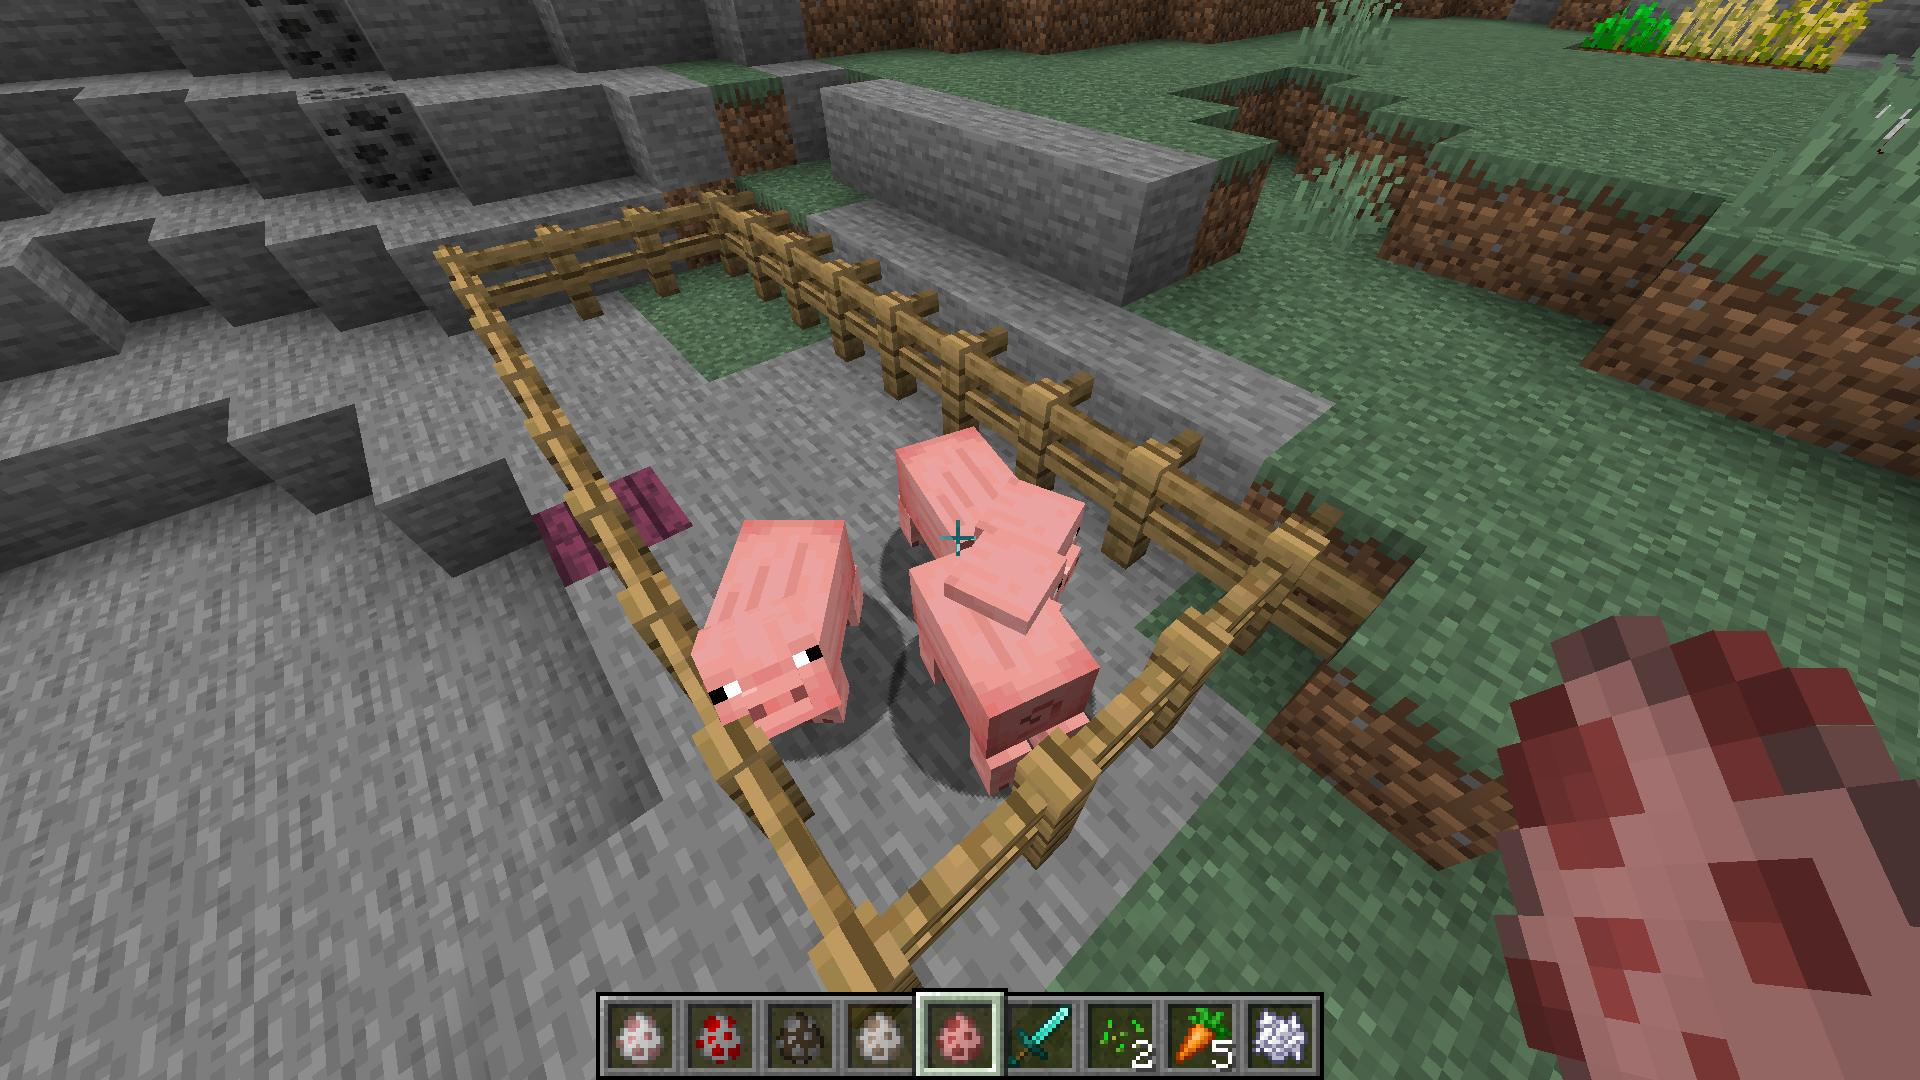pig: (902, 533, 1104, 796), (692, 513, 872, 752)
